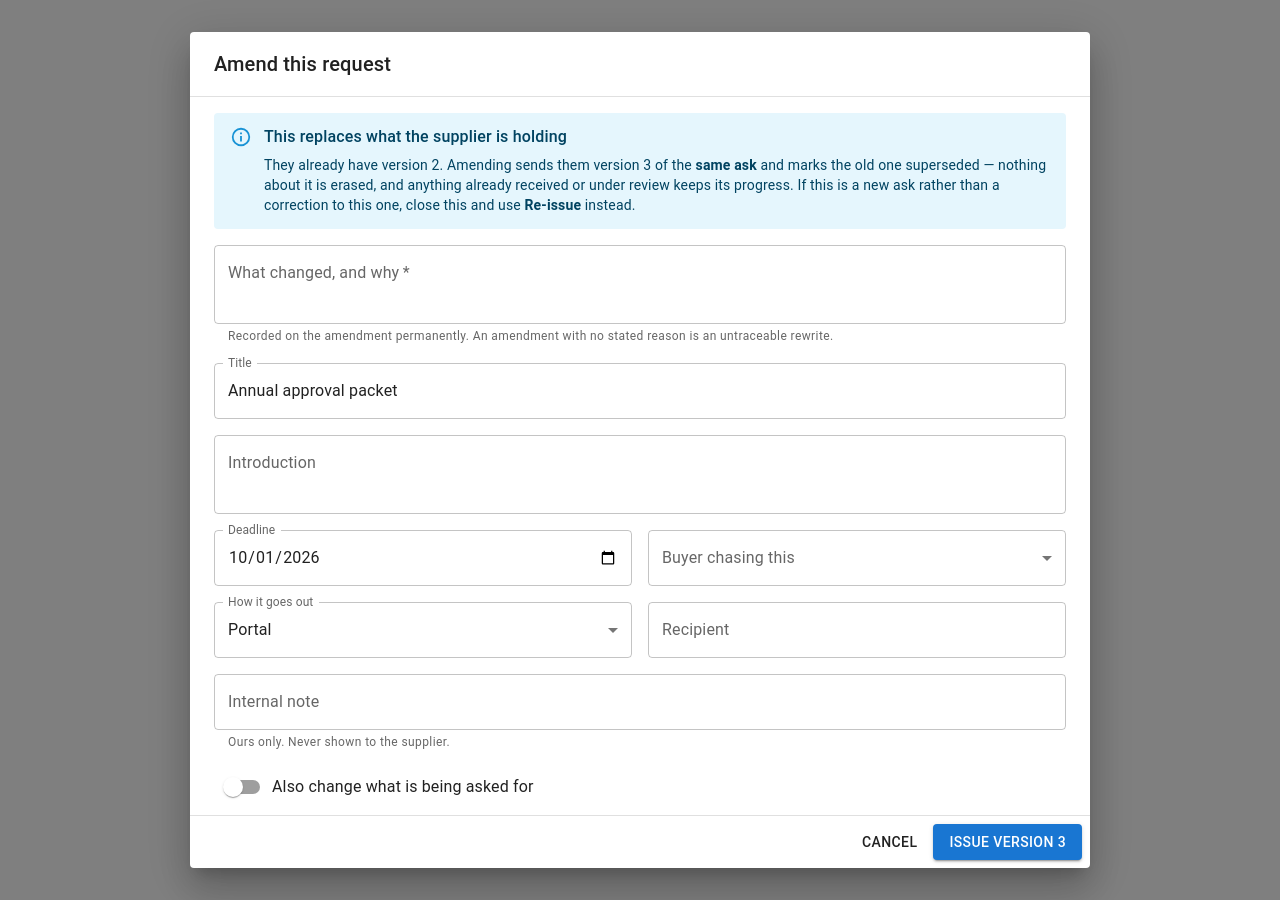
AmendRequestDialog › refuses to submit without a stated reason
Click the button "Issue version 3" at [1008, 842], box top-left (933, 824), bottom-right (1082, 860)
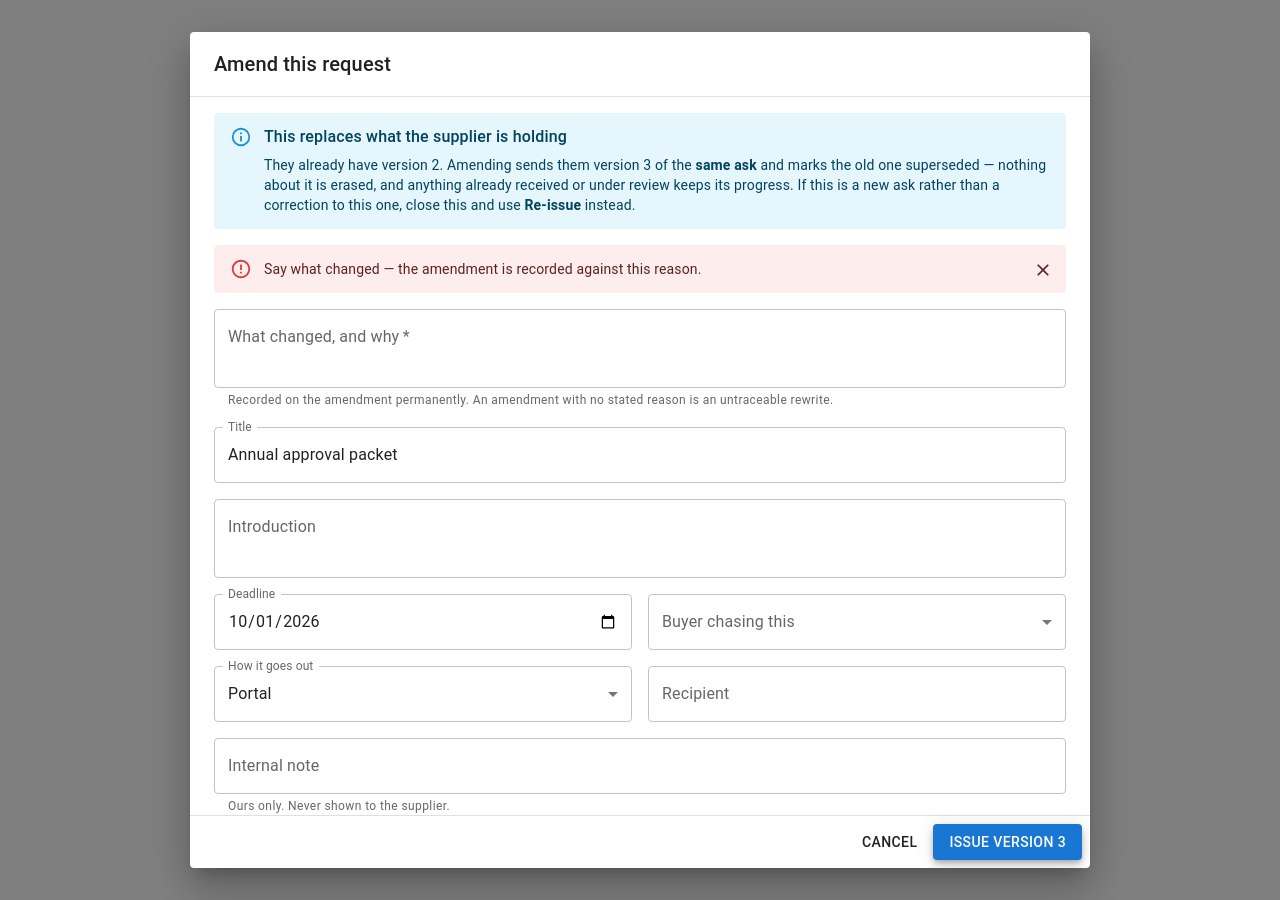
expect the text "Say what changed" is shown: met, box top-left (264, 261), bottom-right (702, 277)
